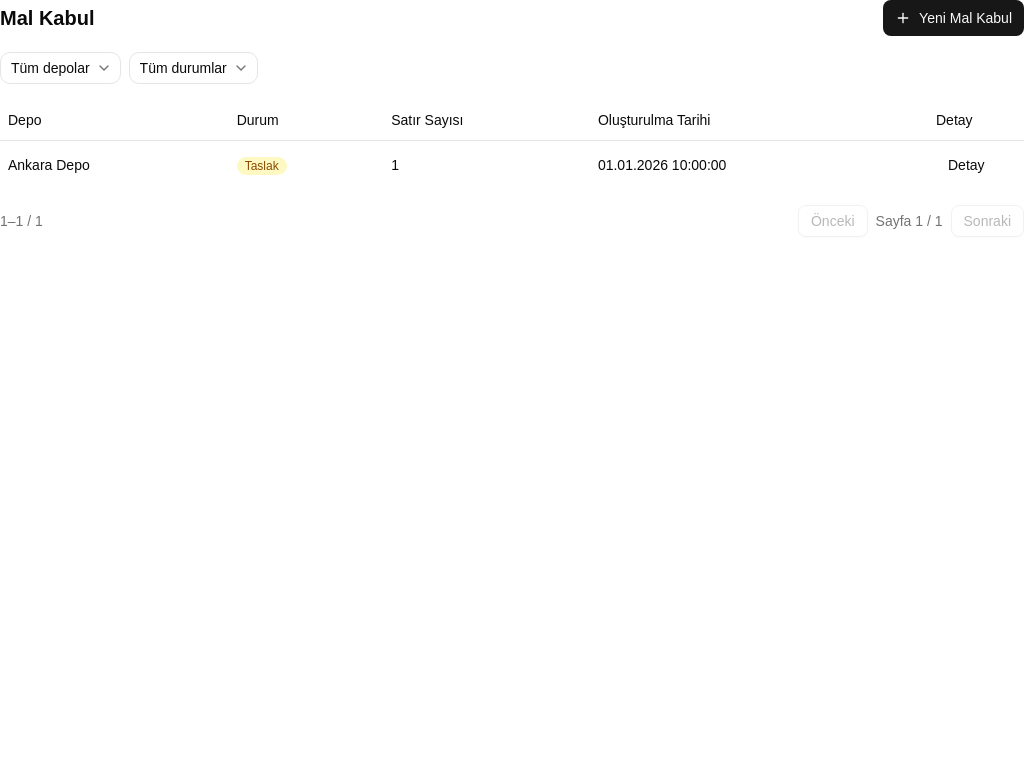
it: GoodsReceiptsPage › hides the approve button in the detail dialog for a non-approver role
Expected: the text "Ankara Depo" is shown, [0,140,229,188]
Step 1. Click the button "Detay" → (966, 164), box [936,148,997,180]
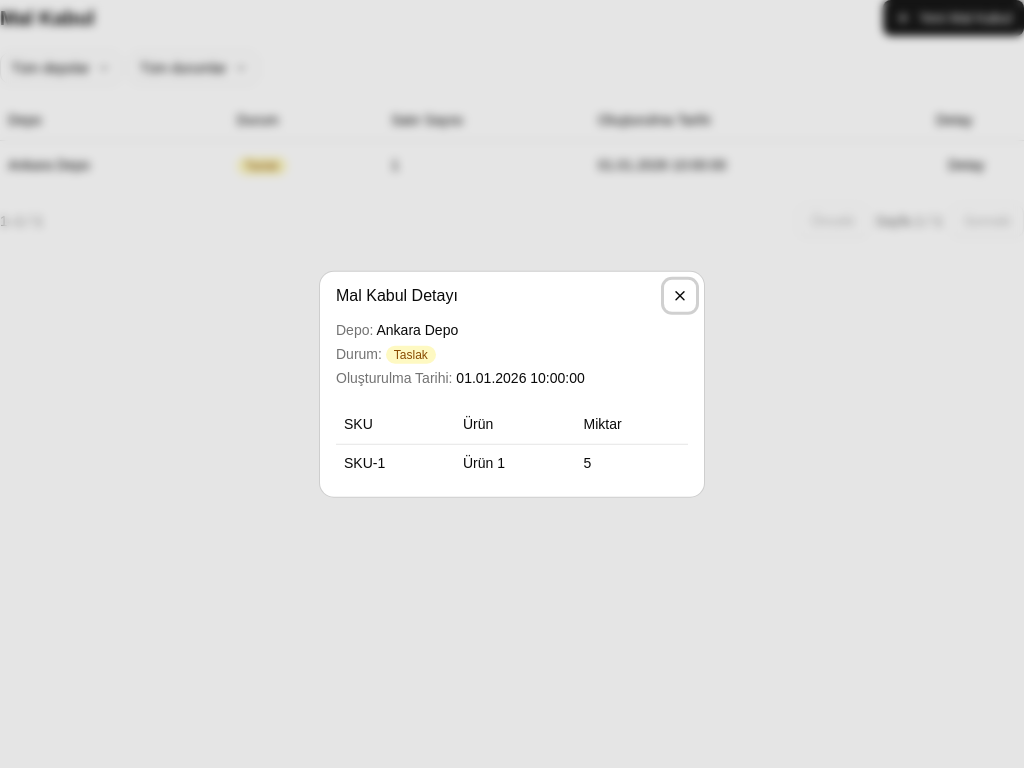
Expected: the text "SKU-1" is shown, [336,444,455,480]
